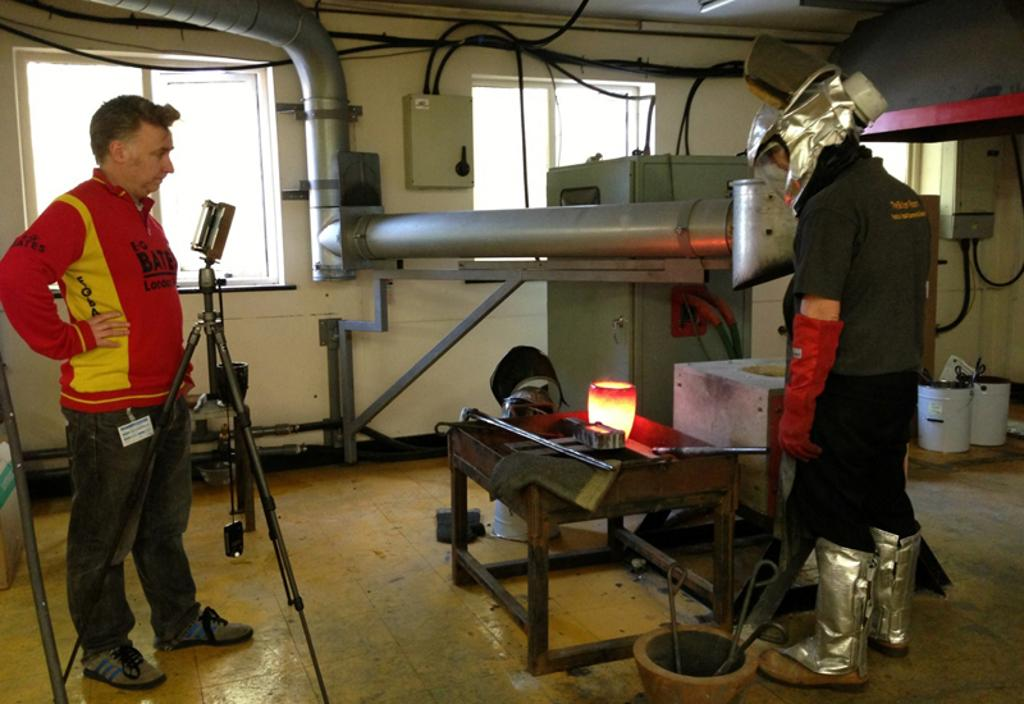face: (765, 121, 818, 188), (122, 126, 174, 191)
